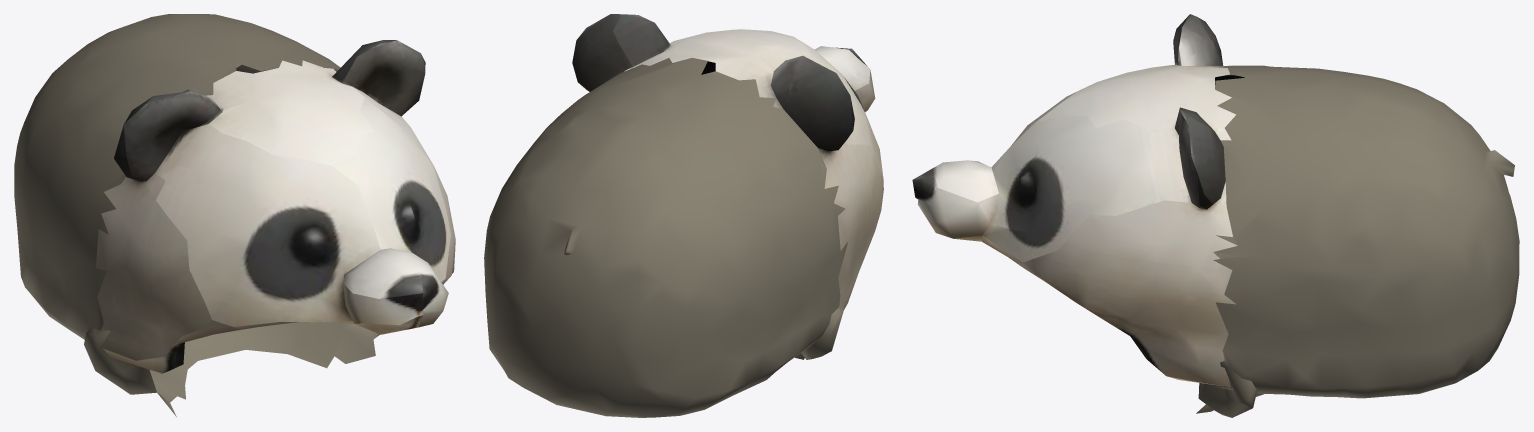
File: panda.glb
The picture shows the model from 3 angles, left to right: view 1: azimuth 30°, elevation 25°; view 2: azimuth 150°, elevation 25°; view 3: azimuth 270°, elevation 25°; orthographic projection. The views are drawn at different scales.
Visible parts, largest first — view 1: geometry_0, HoodAnatomicalLining; view 2: geometry_0, HoodAnatomicalLining; view 3: geometry_0, HoodAnatomicalLining.
Boxes of the visible parts, left/top/right/bottom form: geometry_0: left=14, top=14, right=455, bottom=373; HoodAnatomicalLining: left=84, top=174, right=379, bottom=416; geometry_0: left=484, top=14, right=883, bottom=417; HoodAnatomicalLining: left=795, top=149, right=843, bottom=359; geometry_0: left=912, top=14, right=1519, bottom=398; HoodAnatomicalLining: left=1196, top=131, right=1263, bottom=417.
Size of the model in its own units: 0.5117 by 0.5114 by 0.904.
Materials: 2 (1 with a texture image).
